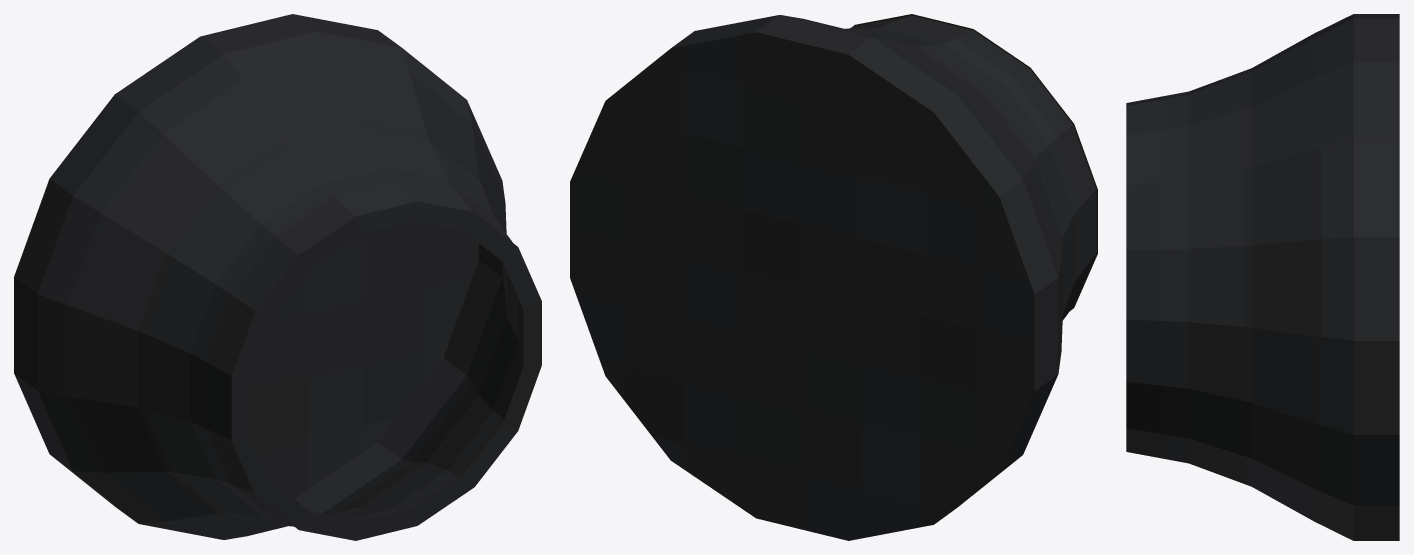
The model's file is decopole_laconcrete_tenon_n.obj.
3 renders of one model, left to right at view 1: azimuth 30°, elevation 25°; view 2: azimuth 150°, elevation 25°; view 3: azimuth 270°, elevation 25°, orthographic. The views are drawn at different scales.
Visible parts, largest first — view 1: decopole_laconcrete_tenon_n; view 2: decopole_laconcrete_tenon_n; view 3: decopole_laconcrete_tenon_n.
Boxes of the visible parts, x1=… form: decopole_laconcrete_tenon_n: x1=14, y1=14, x2=541, y2=540; decopole_laconcrete_tenon_n: x1=570, y1=14, x2=1097, y2=540; decopole_laconcrete_tenon_n: x1=1126, y1=14, x2=1399, y2=540.
Bounding box in the file's own units: 0.8337 × 0.8337 × 0.4363.
